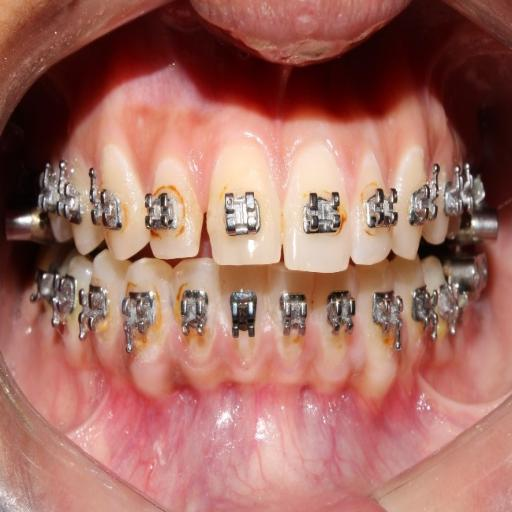correct_brace: (221, 181, 264, 242), (301, 183, 345, 240), (145, 186, 180, 238), (88, 184, 120, 230), (366, 183, 399, 227), (410, 179, 440, 225)
incorrect_brace: (148, 144, 204, 260), (353, 150, 394, 265)
